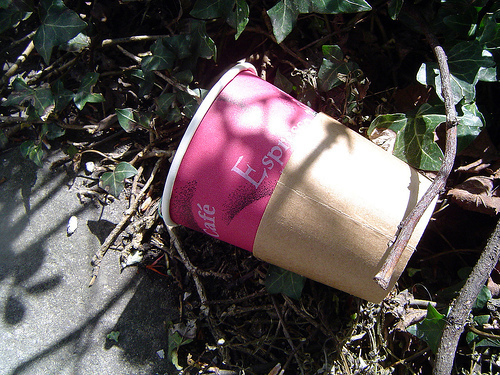litter: (160, 58, 438, 303)
